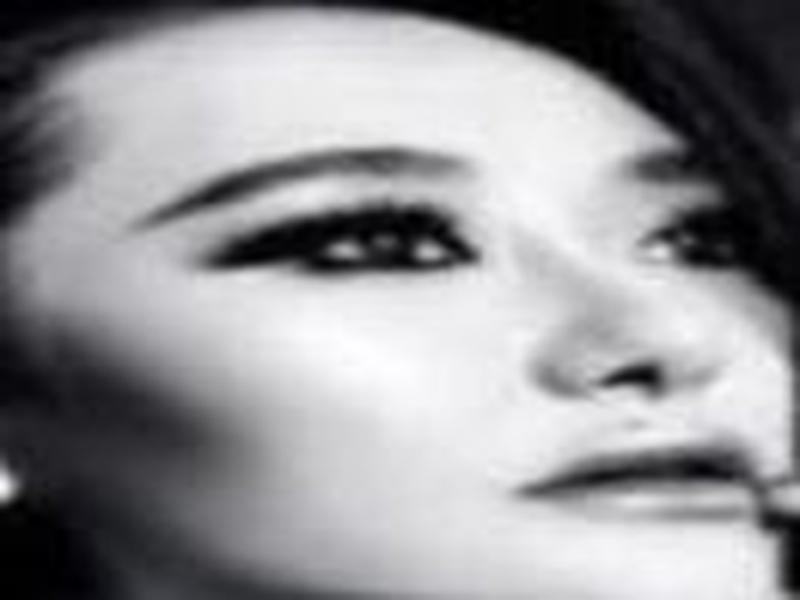without_mask: (23, 18, 791, 600)
